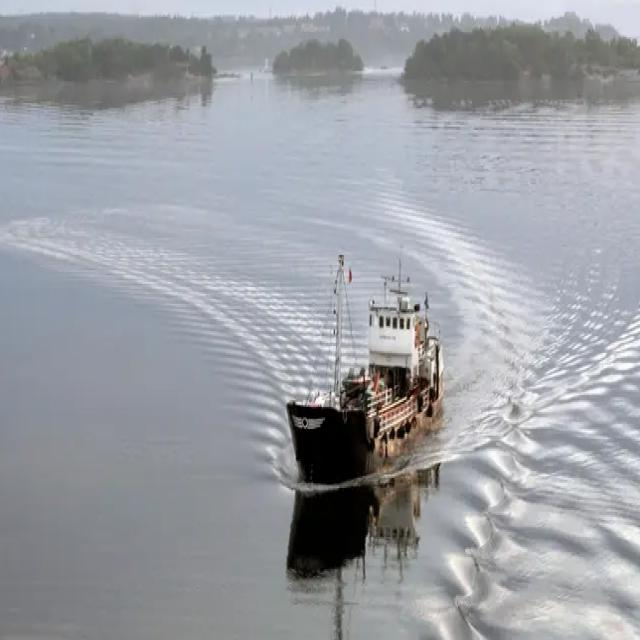fishing boat: (282, 247, 447, 480)
